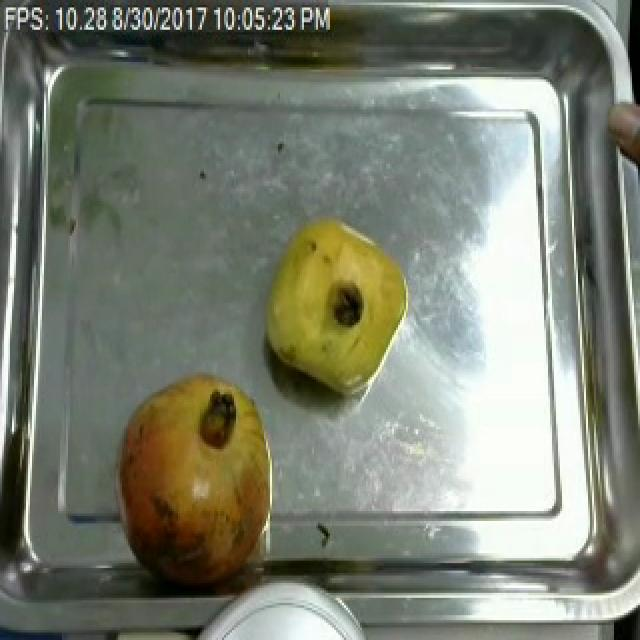fruit: (102, 360, 284, 598), (256, 206, 418, 402), (604, 89, 640, 184)
